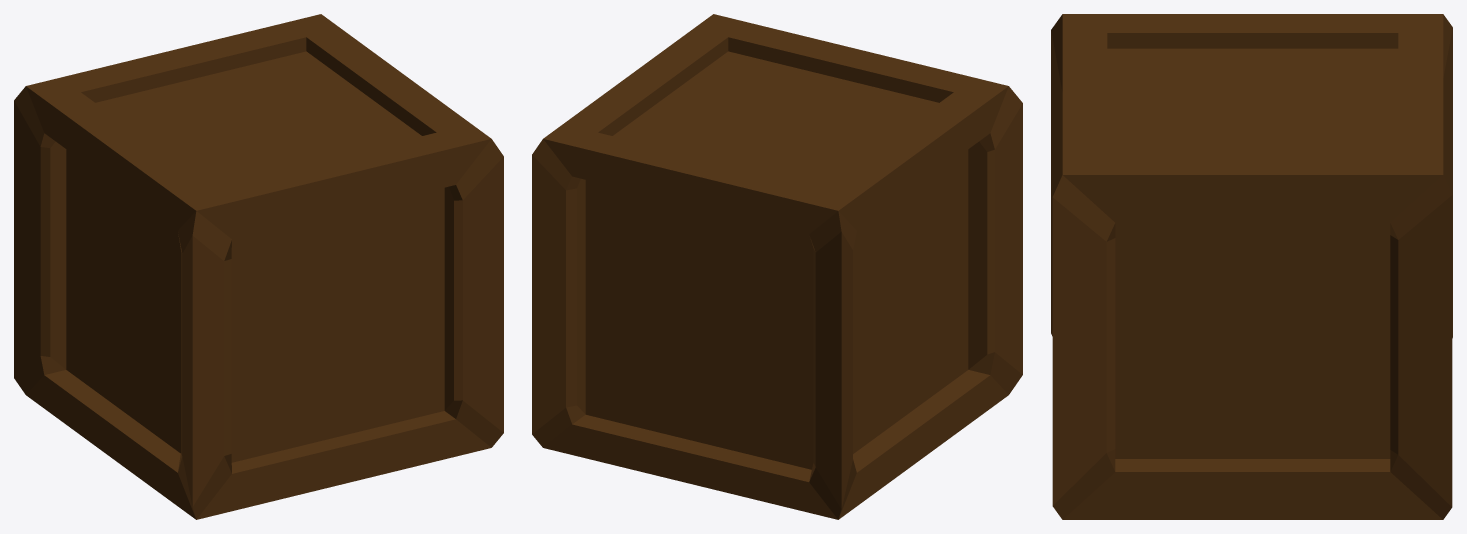
The model's file is low-poly-crate.glb.
The picture shows the model from 3 angles, left to right: view 1: azimuth 30°, elevation 25°; view 2: azimuth 150°, elevation 25°; view 3: azimuth 270°, elevation 25°; orthographic projection. The views are drawn at different scales.
Visible parts, largest first — view 1: Cube; view 2: Cube; view 3: Cube.
Boxes of the visible parts, x1,y1,x2,y2 form: Cube: [14, 14, 503, 519]; Cube: [532, 14, 1022, 519]; Cube: [1051, 14, 1452, 519].
Size of the model in its own units: 2.11 by 2 by 2.11.
